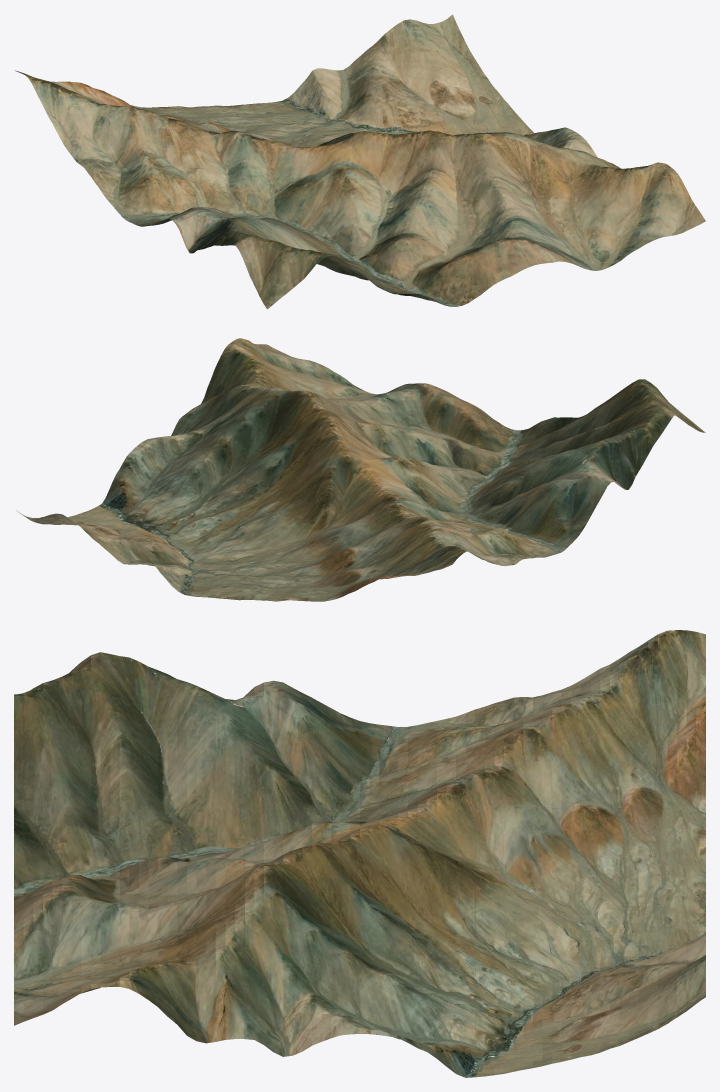
3 renders of one model, top to bottom at view 1: azimuth 30°, elevation 25°; view 2: azimuth 150°, elevation 25°; view 3: azimuth 270°, elevation 25°, orthographic. The views are drawn at different scales.
Visible parts, largest first — view 1: Layer 01; view 2: Layer 01; view 3: Layer 01.
Part boxes in pixels (x1,y1,x2,y2): Layer 01: (15, 14, 705, 309); Layer 01: (16, 338, 705, 601); Layer 01: (14, 630, 705, 1077).
Bounding box in the file's own units: 0.402 × 0.0998 × 0.402.
1 material, 1 textured.
